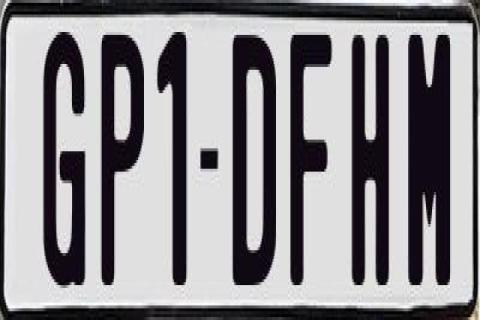0: (156, 32, 190, 302)
D: (229, 32, 280, 296)
F: (289, 29, 336, 294)
G: (42, 32, 88, 302)
H: (350, 35, 394, 291)
M: (406, 32, 448, 294)
P: (98, 35, 142, 299)
